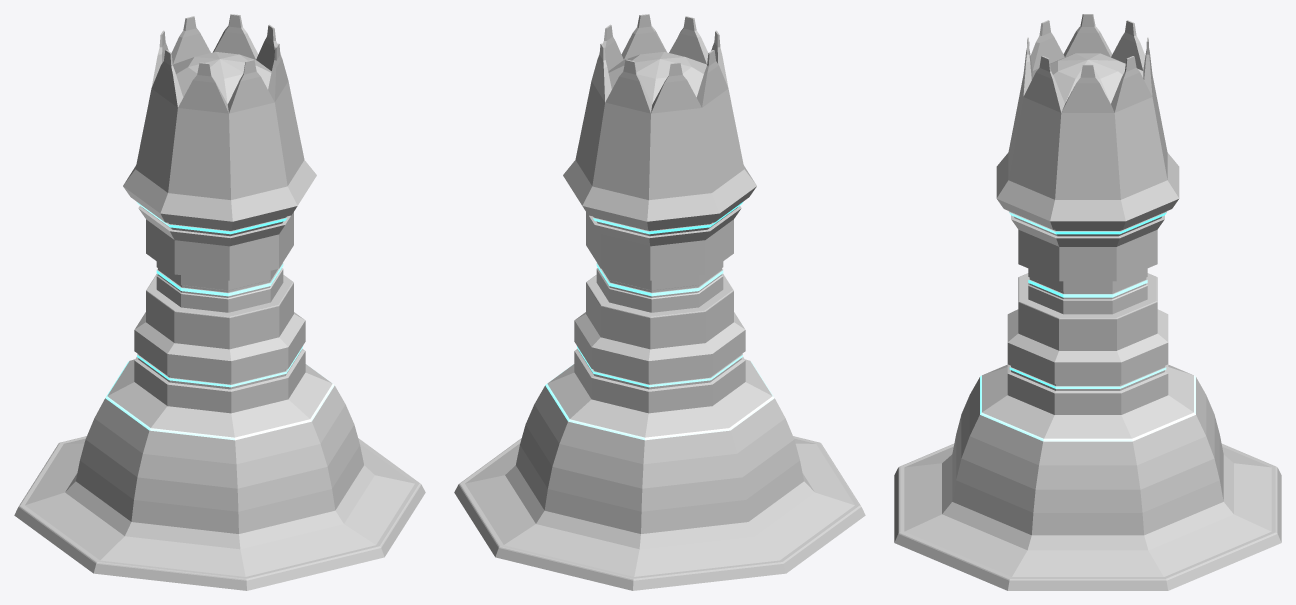
3 renders of one model, left to right at view 1: azimuth 30°, elevation 25°; view 2: azimuth 150°, elevation 25°; view 3: azimuth 270°, elevation 25°, orthographic.
Parts seen in each view (by area): view 1: NodeMesh; view 2: NodeMesh; view 3: NodeMesh.
Part boxes in pixels (box(x1,y1,x2,y2)): NodeMesh: box(14, 14, 425, 590); NodeMesh: box(454, 14, 865, 590); NodeMesh: box(894, 14, 1281, 590).
Size of the model in its own units: 185 by 247 by 185.
